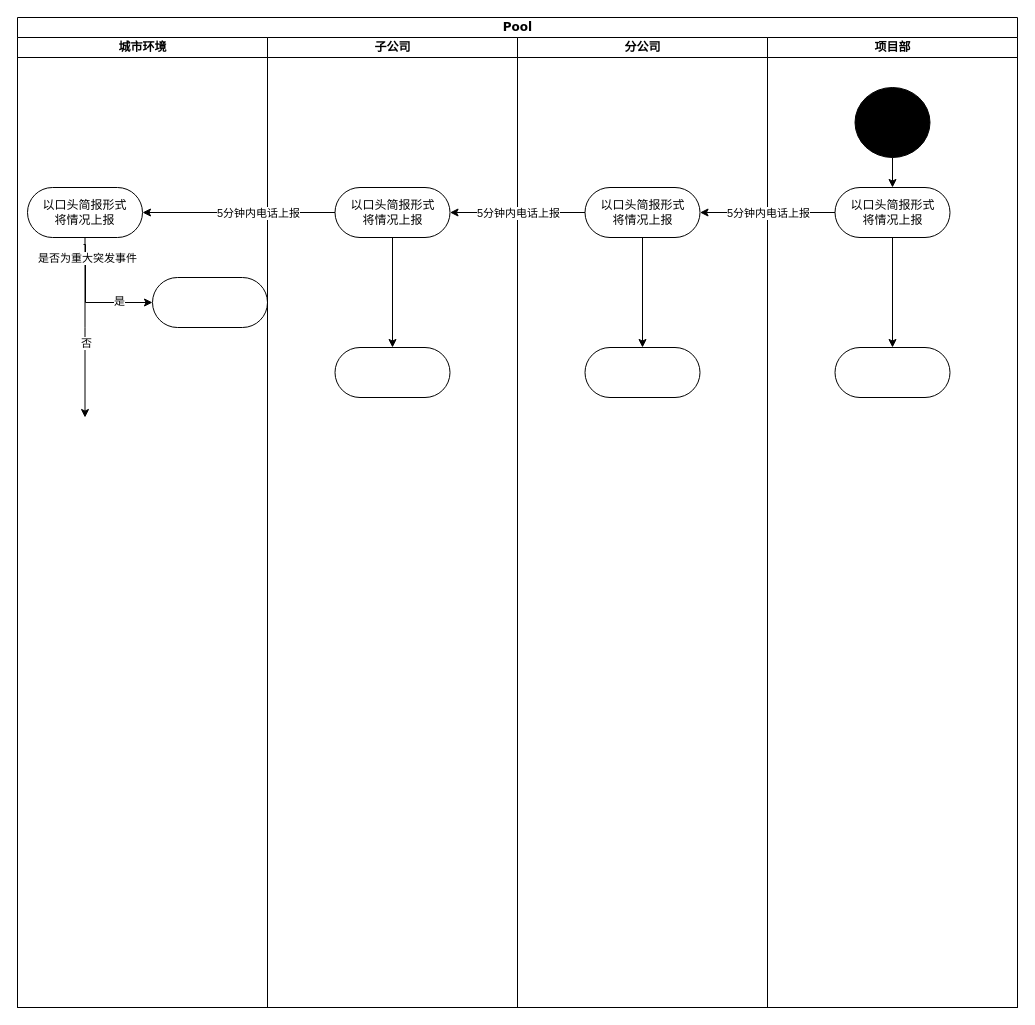
The diagram is 1035 pixels wide and 1025 high, and some of its shapes have lost their labels. The shapes that lost their labels are listed below. From the top down, each one's centre as x and y in pixels, then its label:
the point at 892,122: 突发事件发生
the point at 210,302: 成立应急指挥部驻扎项目现场指挥
the point at 392,372: 准备信息发布工作
the point at 642,372: 开展舆情监测
the point at 892,372: 排摸详细情况 形成书面报告
